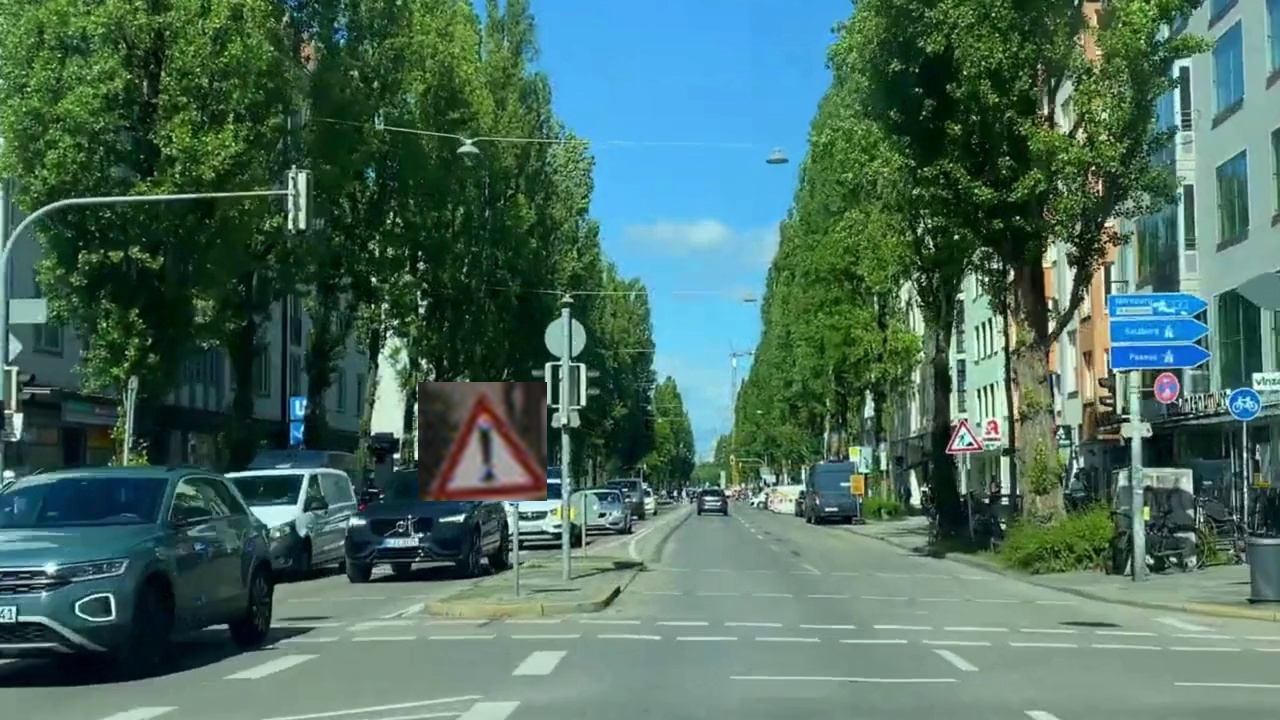Caution: (418, 382, 547, 501)
